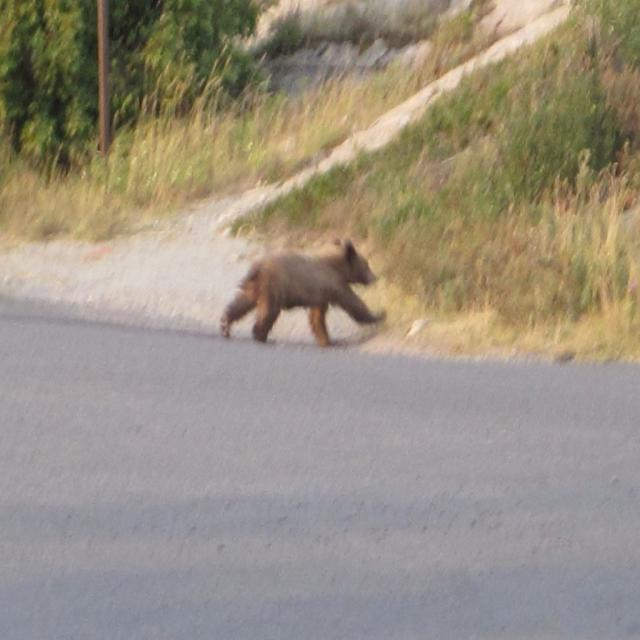Buffalo: (218, 237, 387, 348)
